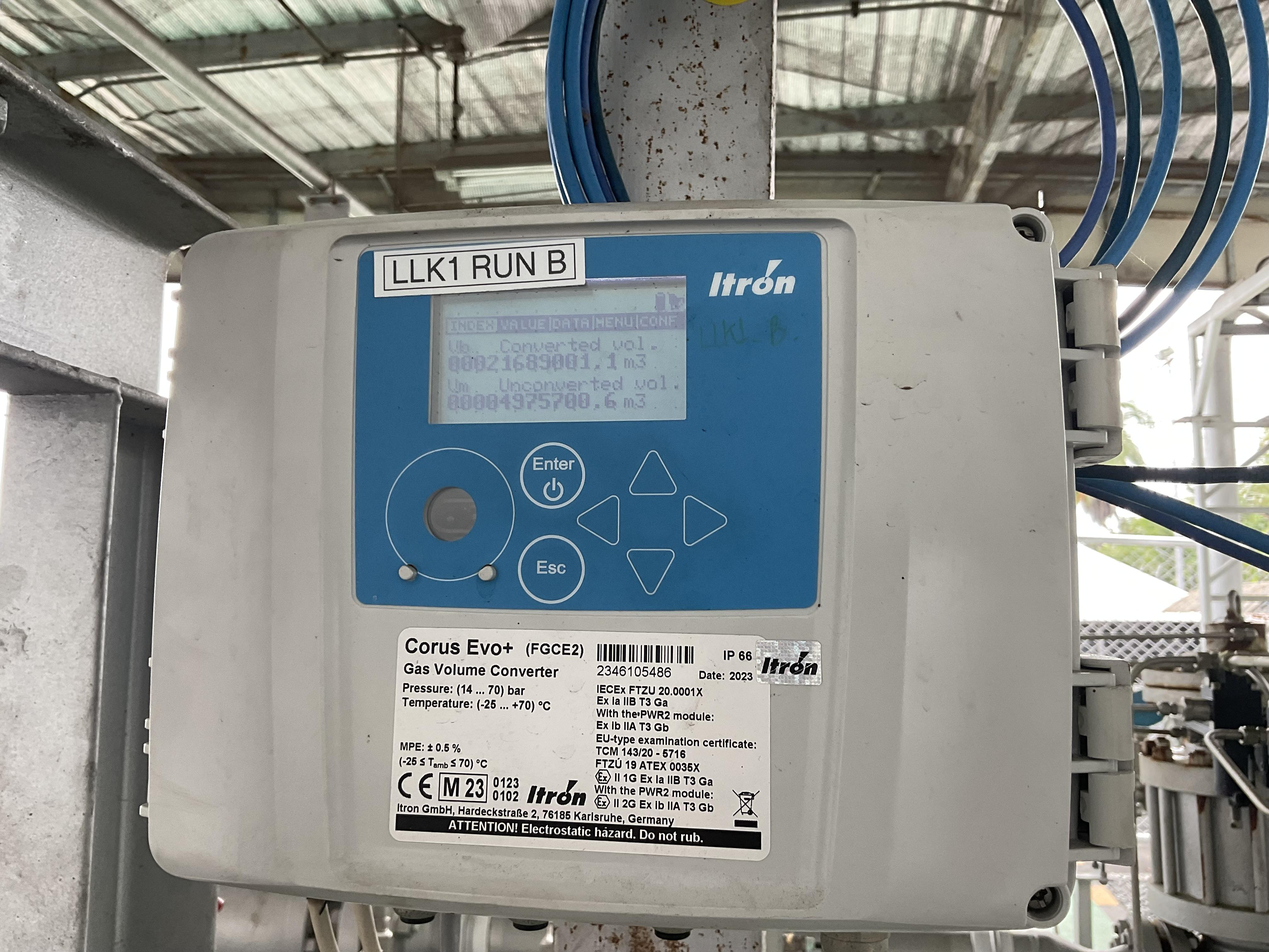digital_screen: (424, 276, 690, 428)
